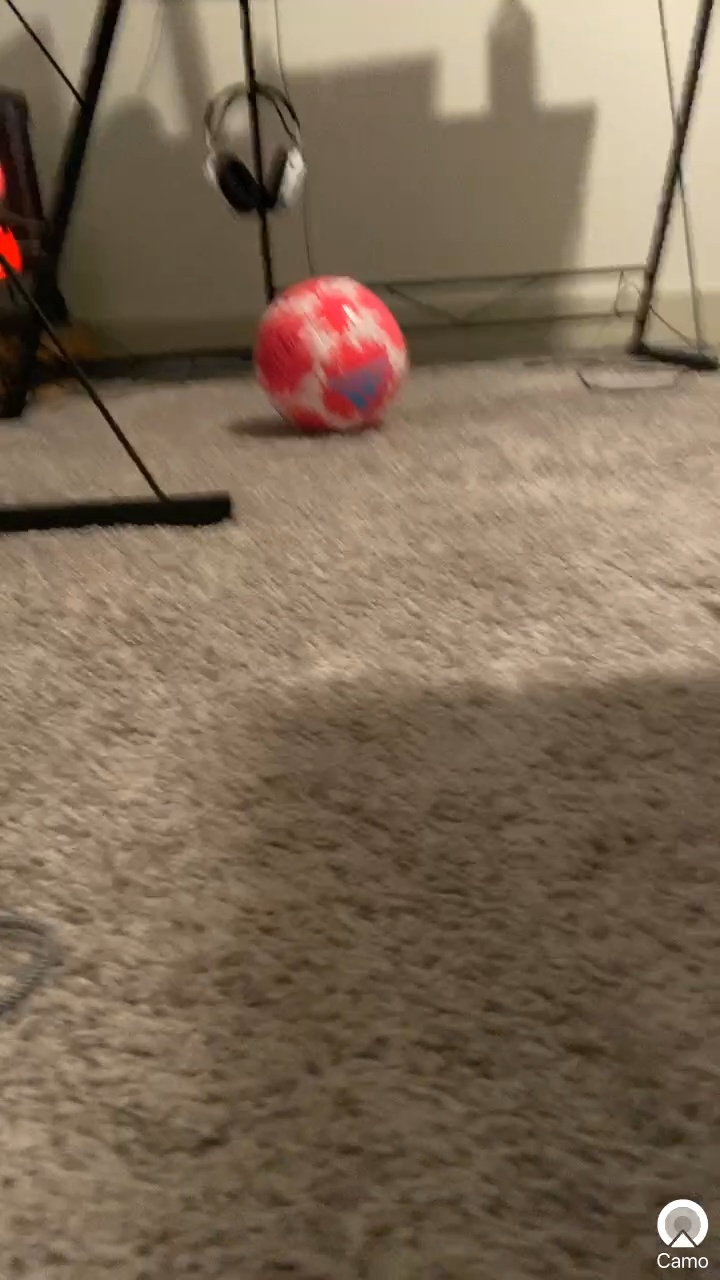Soccer_Ball: (221, 260, 435, 454)
